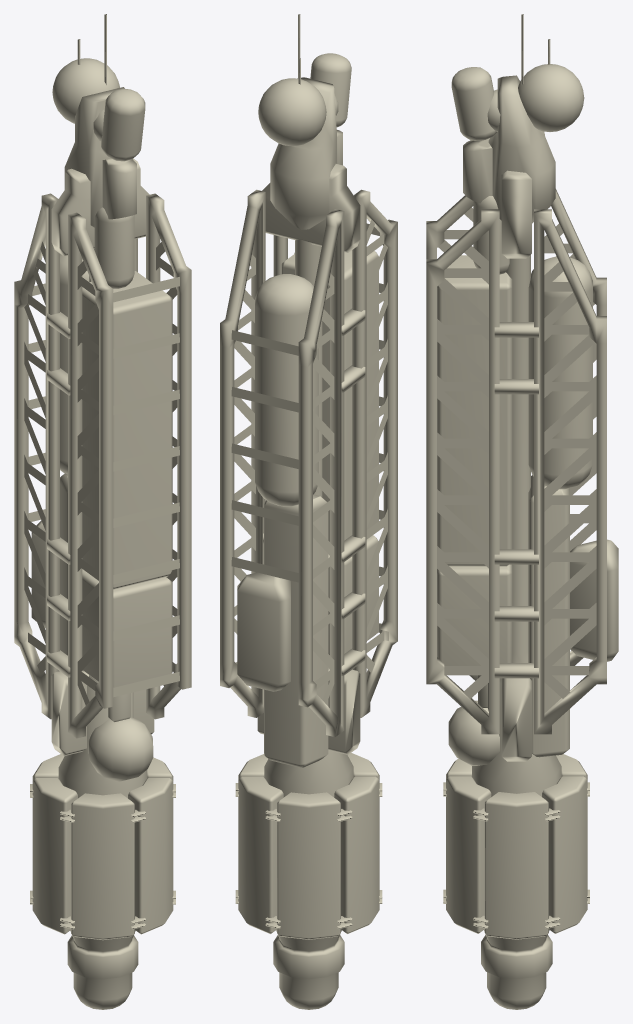
File: Frigate_Patrol_EXPORT.dae
3 renders of one model, left to right at view 1: azimuth 30°, elevation 25°; view 2: azimuth 150°, elevation 25°; view 3: azimuth 270°, elevation 25°, orthographic.
Parts seen in each view (by area): view 1: Generic; view 2: Generic; view 3: Generic.
Boxes of the visible parts, box(x1,y1,x2,y2) form: Generic: box(14, 14, 191, 1009); Generic: box(220, 14, 397, 1009); Generic: box(426, 14, 618, 1009).
Bounding box in the file's own units: 20.12 × 153 × 26.76.
